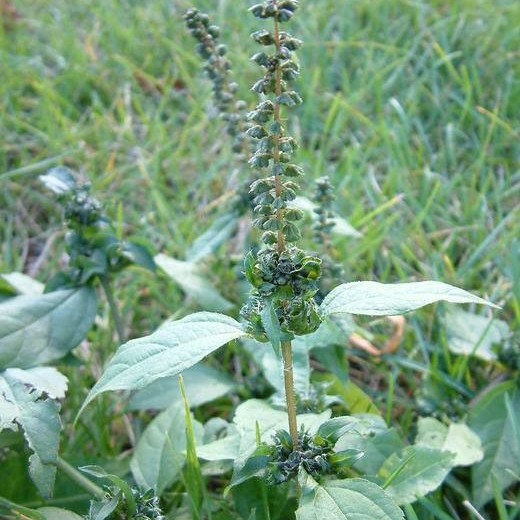obstacle: (225, 16, 472, 501), (22, 284, 260, 481)
